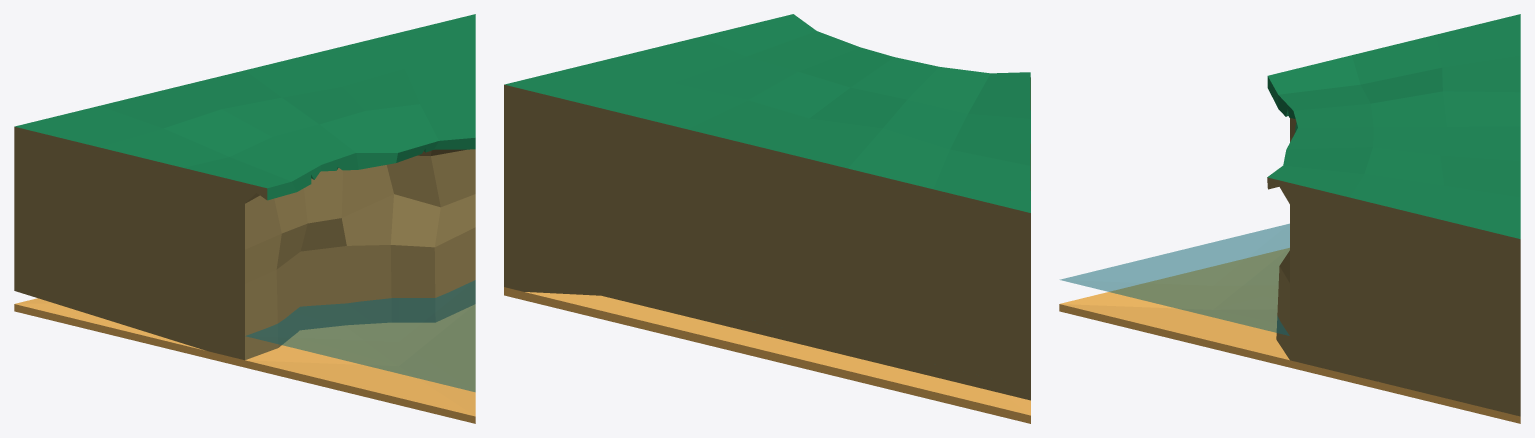
The model's file is tile6.glb.
The picture shows the model from 3 angles, left to right: view 1: azimuth 30°, elevation 25°; view 2: azimuth 150°, elevation 25°; view 3: azimuth 270°, elevation 25°; orthographic projection. The views are drawn at different scales.
Parts seen in each view (by area): view 1: hill.010, sand6.001, water6.001; view 2: hill.010, sand6.001; view 3: hill.010, sand6.001, water6.001.
Part boxes in pixels (x1,y1,x2,y2): hill.010: [14, 14, 475, 360]; sand6.001: [14, 298, 475, 423]; water6.001: [245, 280, 475, 391]; hill.010: [504, 14, 1030, 400]; sand6.001: [504, 287, 1030, 423]; hill.010: [1267, 14, 1520, 416]; sand6.001: [1059, 248, 1520, 423]; water6.001: [1060, 223, 1289, 335].
Bounding box in the file's own units: 1 × 0.3924 × 0.8661.
